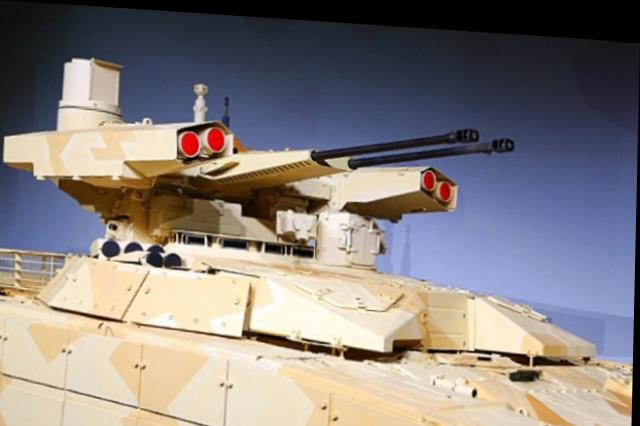tank: (0, 104, 586, 424)
